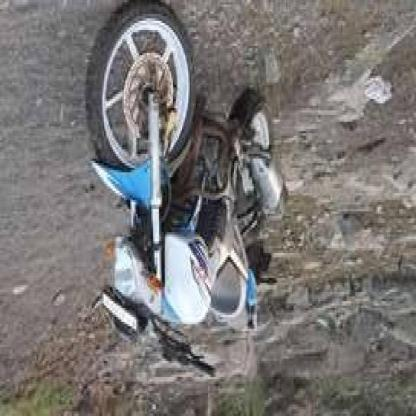bike: (84, 6, 290, 378)
